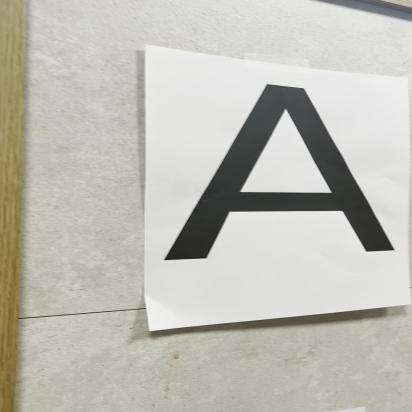seat: (162, 79, 412, 272)
